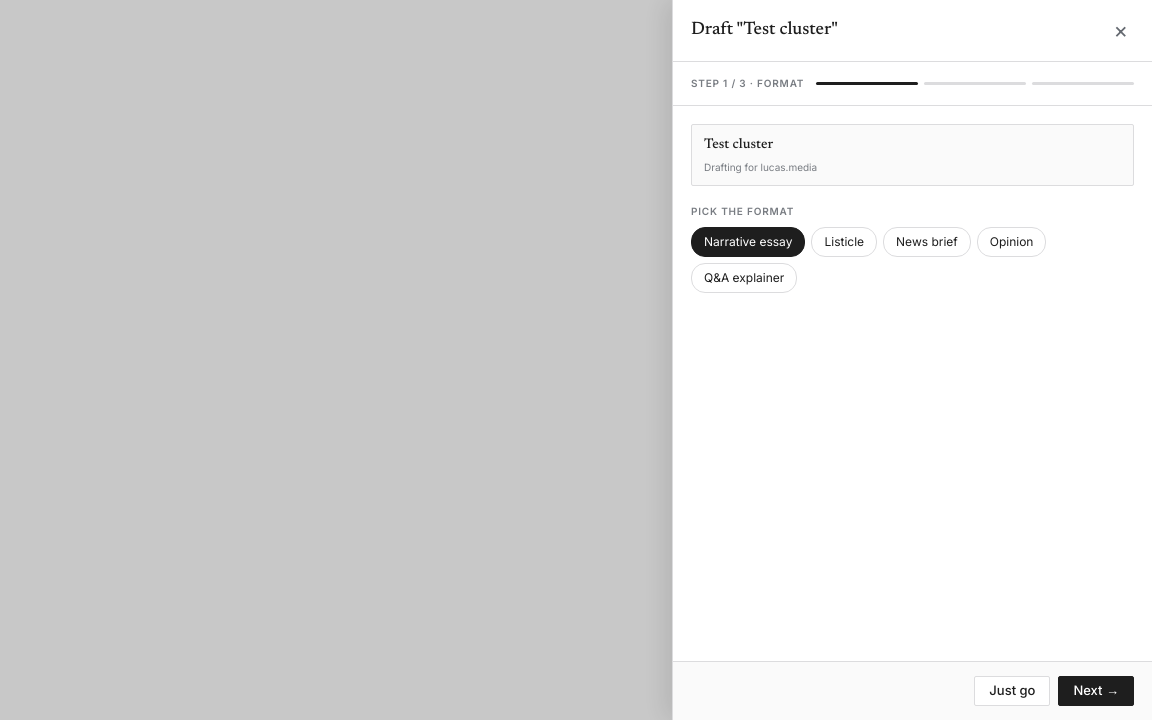
it: DraftWizardSheet › advances to step 2 (Length) on Next click
Click the button "Next →" at (1096, 691), box [1058,676,1134,706]
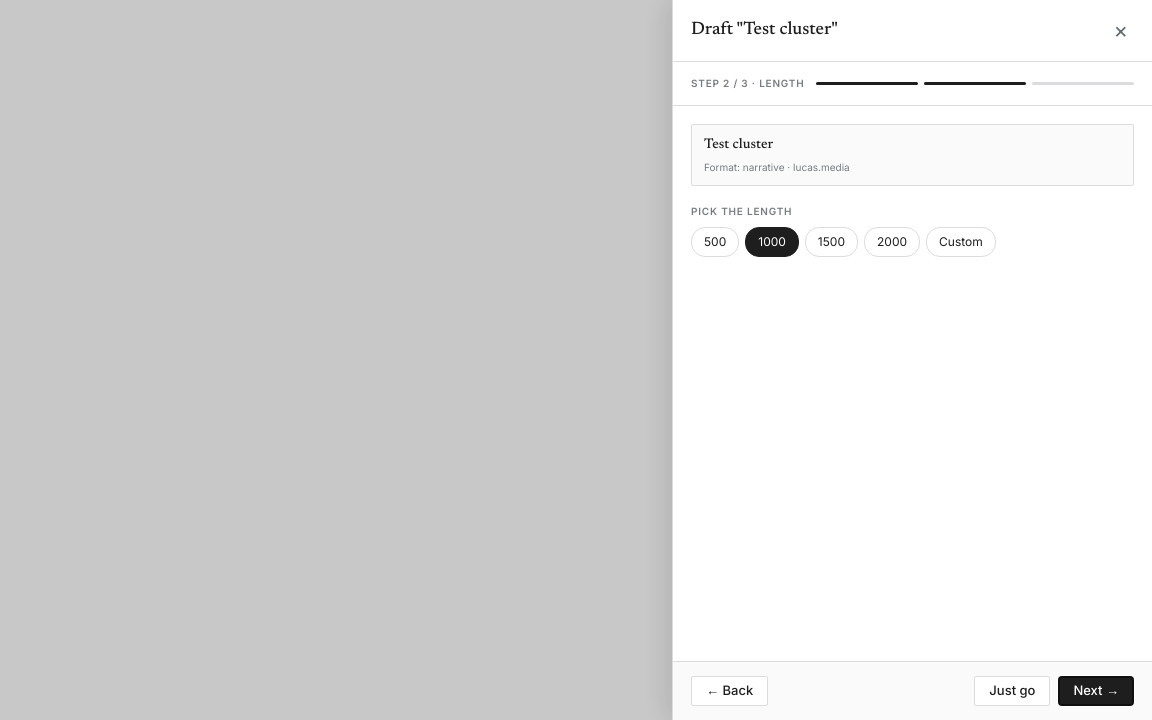
Expected: the text "Step 2 / 3 · Length" is shown, [691,76,804,91]
Expected: the text "Pick the length" is shown, [691,205,792,217]
